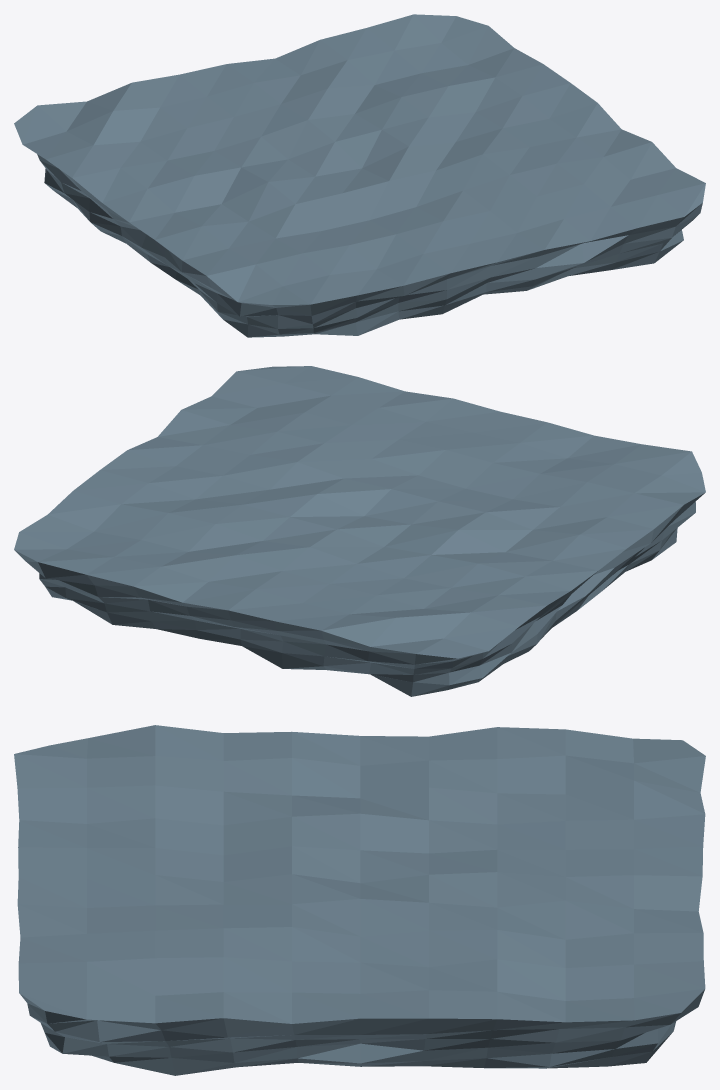
File: water_blender.dae
3 views of the same model, one above another, from view 1: azimuth 30°, elevation 25°; view 2: azimuth 150°, elevation 25°; view 3: azimuth 270°, elevation 25° (orthographic). The views are drawn at different scales.
Parts seen in each view (by area): view 1: Cube1; view 2: Cube1; view 3: Cube1.
Part boxes in pixels (x1,y1,x2,y2): Cube1: (14,14,705,337); Cube1: (14,366,705,696); Cube1: (14,725,705,1075).
Bounding box in the file's own units: 9.49 × 9.52 × 1.22.
